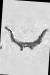F13: (2, 0, 48, 74)
